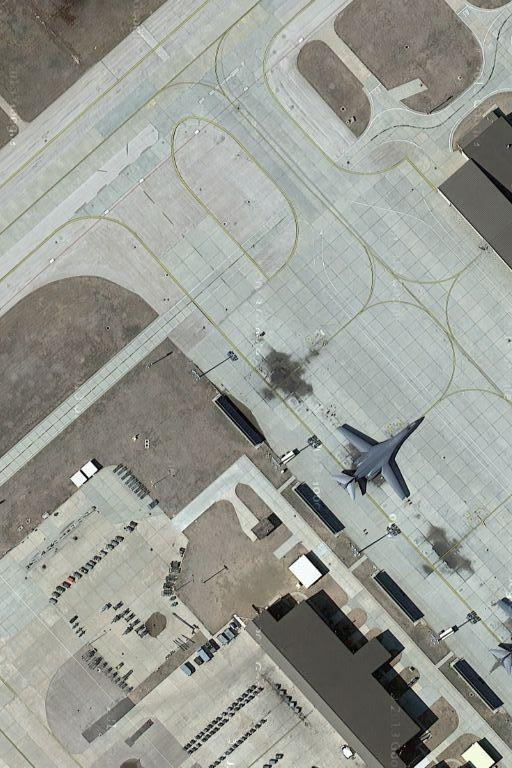B-1B: (337, 413, 428, 502)
